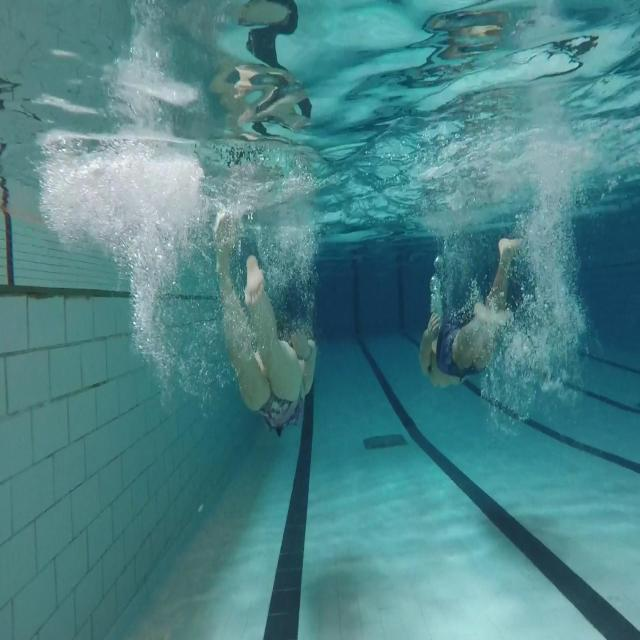human: (214, 210, 317, 438), (418, 234, 522, 388)
